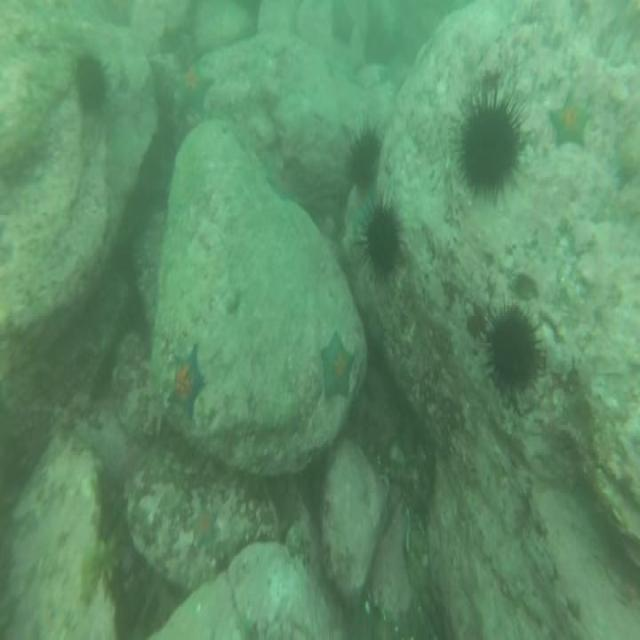echinus: (452, 74, 526, 206), (479, 291, 549, 411), (358, 197, 406, 294), (342, 117, 383, 202), (70, 48, 116, 119)
holothurian: (79, 534, 122, 610)
starfish: (166, 339, 210, 426), (545, 85, 594, 154), (167, 62, 218, 122), (318, 325, 356, 403), (183, 502, 222, 554), (328, 0, 357, 47)
